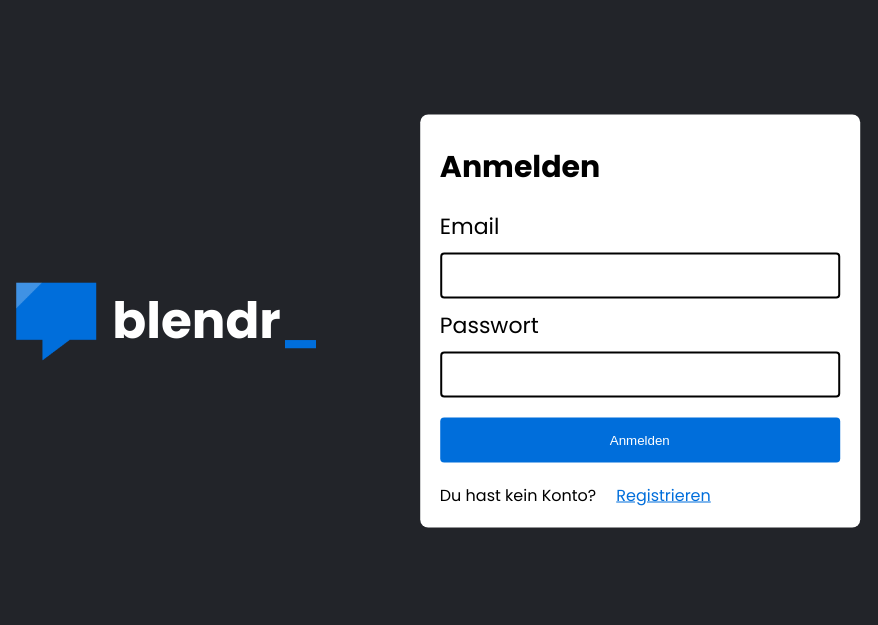
Test: user already exists › shows error when registering a user which already exists
This screenshot has width=878, height=625.
Click the link "Registrieren". click: (664,496)
box: [616,483,711,508]
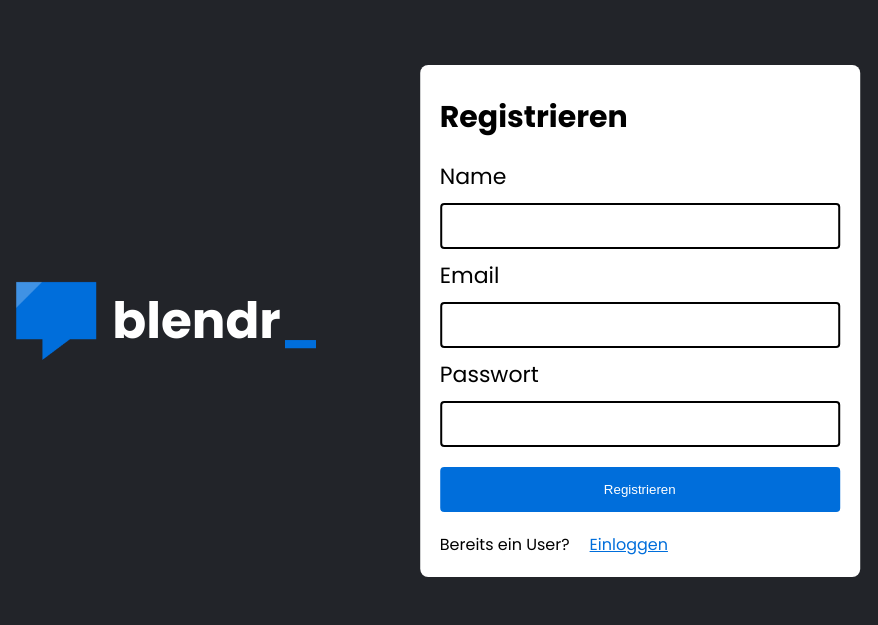
expect the form with class "sign-up-div" is shown: met, box [420,65,860,577]
Type "max" into the field with id "name-input". click: (640,226)
box: [440,203,840,249]
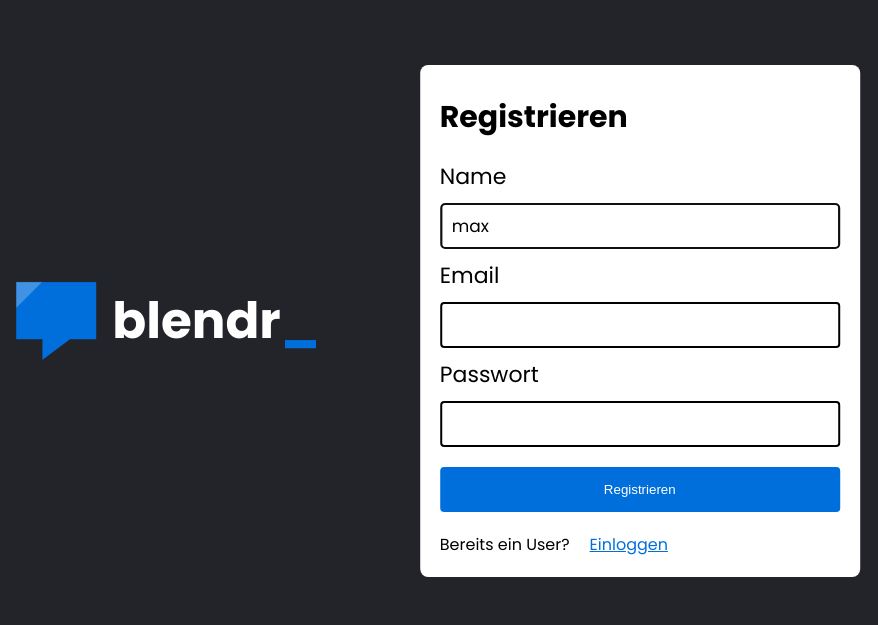
Type "max@gmail.com" into the field with id "email-input". click: (640,325)
box: [440,302,840,348]
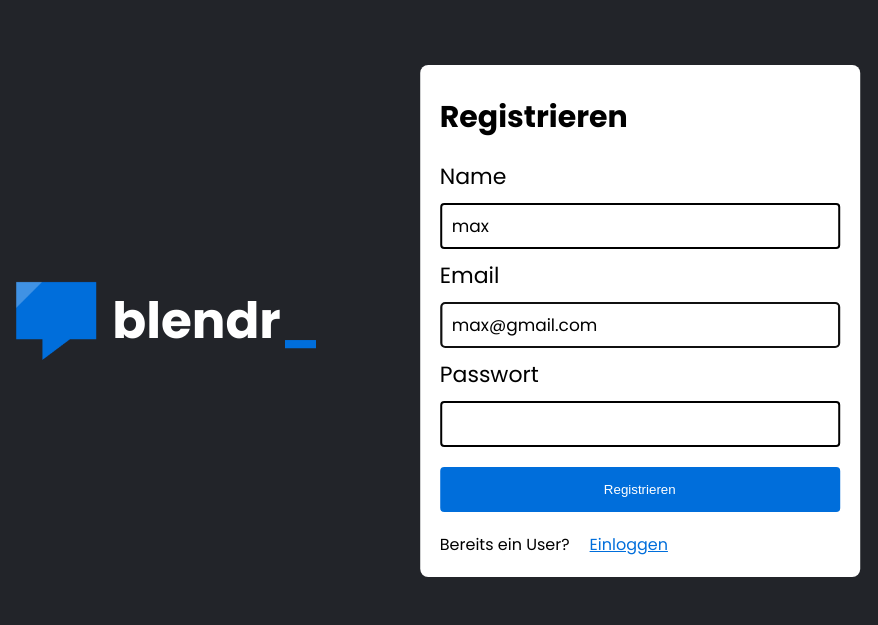
Type "maxpw" into the password field. click: (640,424)
box: [440,401,840,447]
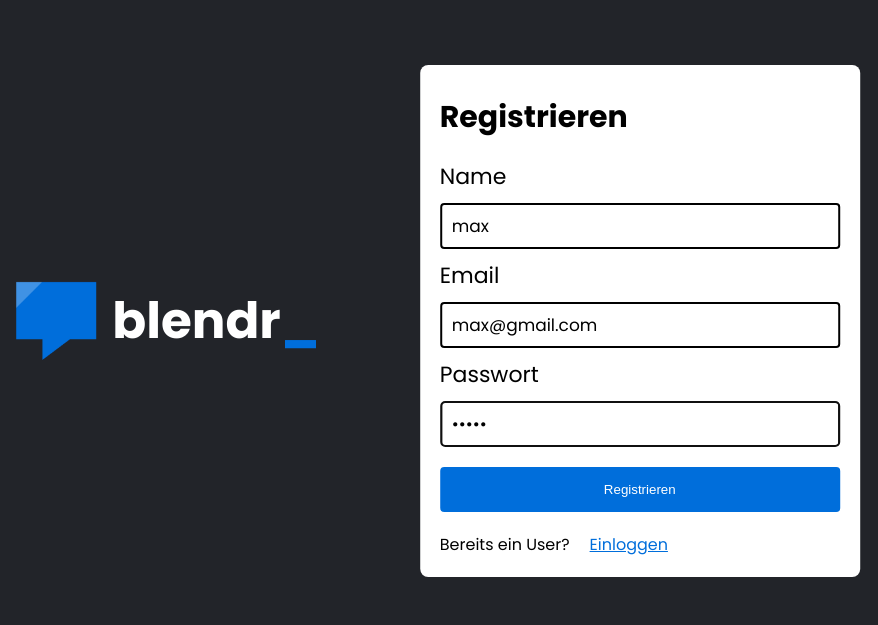
Click the button with class "register-button". click: (640,490)
box: [440,467,840,512]
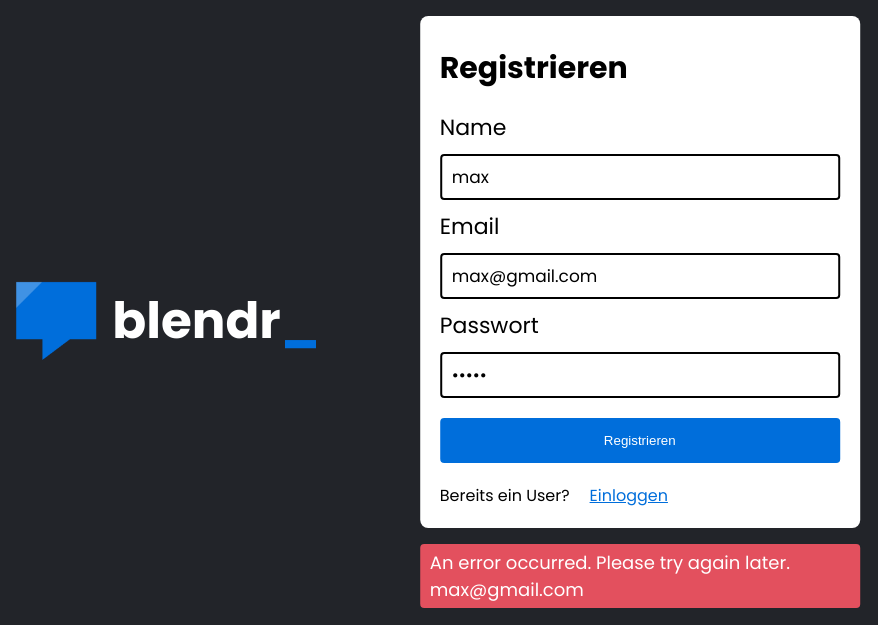
expect the element with class "error-message" shows "max@gmail.com": met, box [420,544,860,608]
